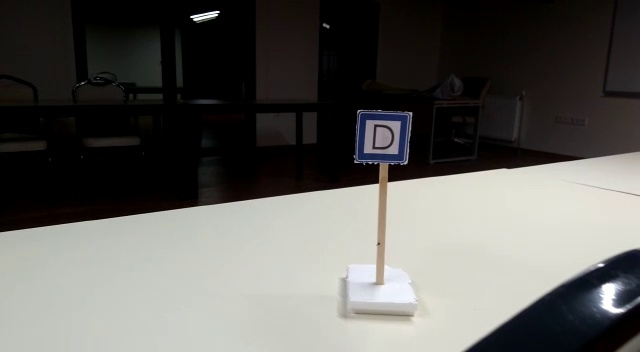durak: (353, 110, 411, 163)
